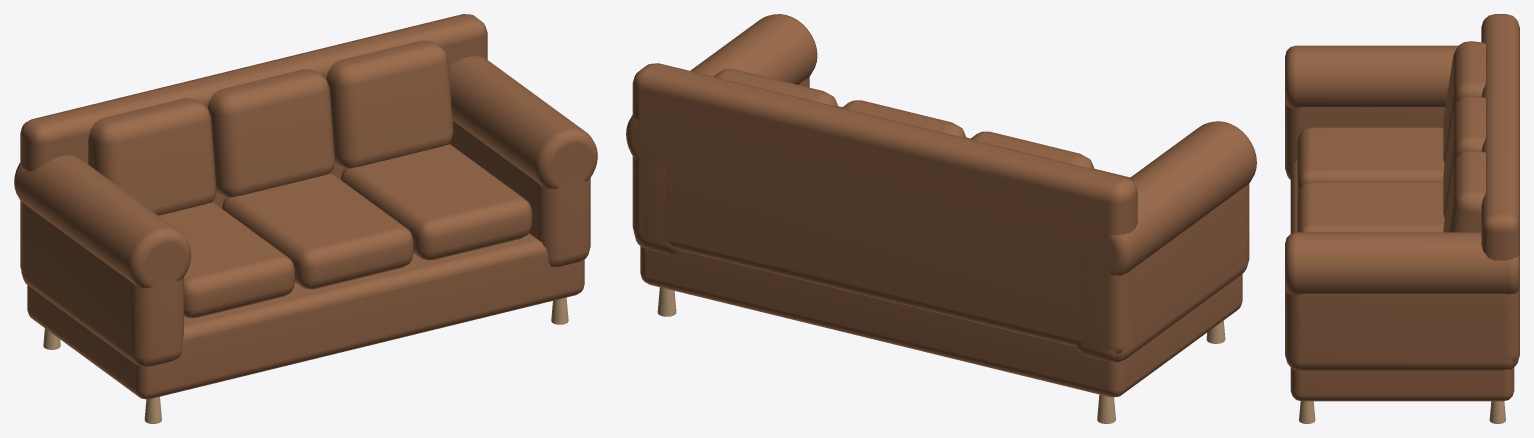
Rendered from seat_sofa.glb.
3 renders of one model, left to right at view 1: azimuth 30°, elevation 25°; view 2: azimuth 150°, elevation 25°; view 3: azimuth 270°, elevation 25°, orthographic. The views are drawn at different scales.
Parts seen in each view (by area): view 1: SM_seat_sofa; view 2: SM_seat_sofa; view 3: SM_seat_sofa.
Part boxes in pixels (x1,y1,x2,y2): SM_seat_sofa: (14,14,597,423); SM_seat_sofa: (626,14,1256,423); SM_seat_sofa: (1285,14,1519,423).
Size of the model in its own units: 1.84 by 0.85 by 0.85.
